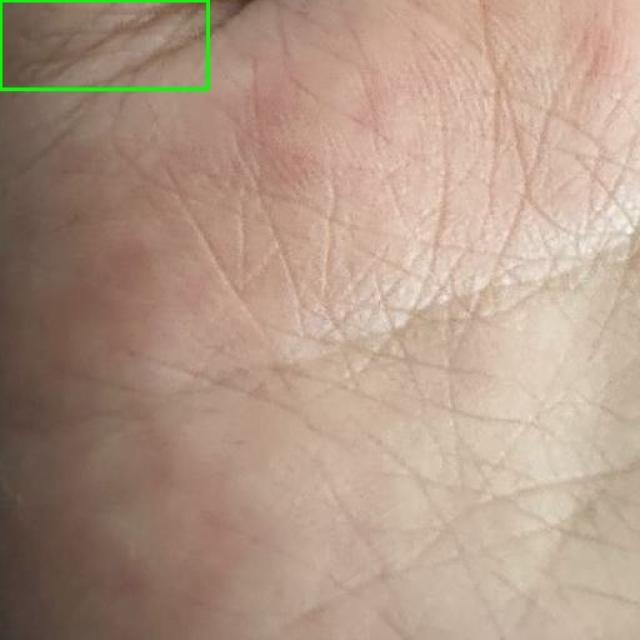Contact Dermatitis: (0, 0, 208, 89)
